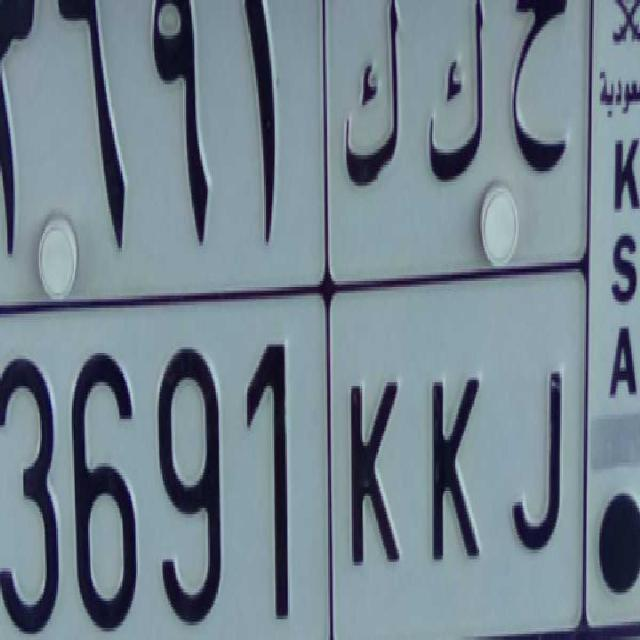license_plate: (0, 295, 583, 640)
